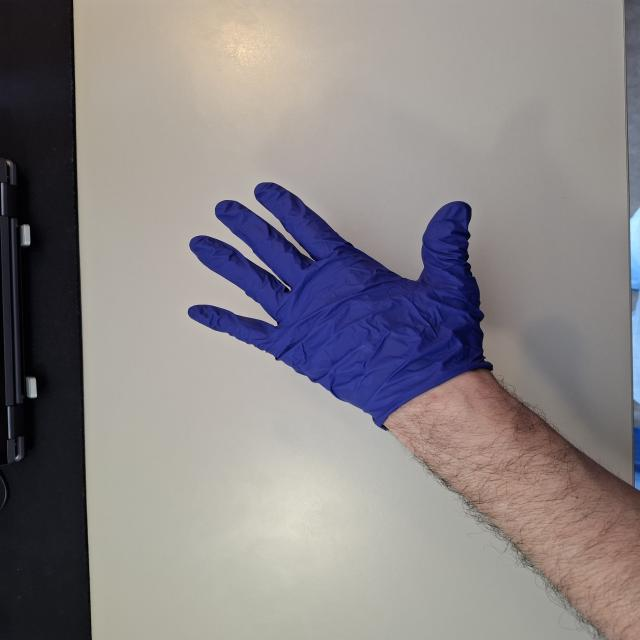glove_on: (184, 180, 496, 430)
